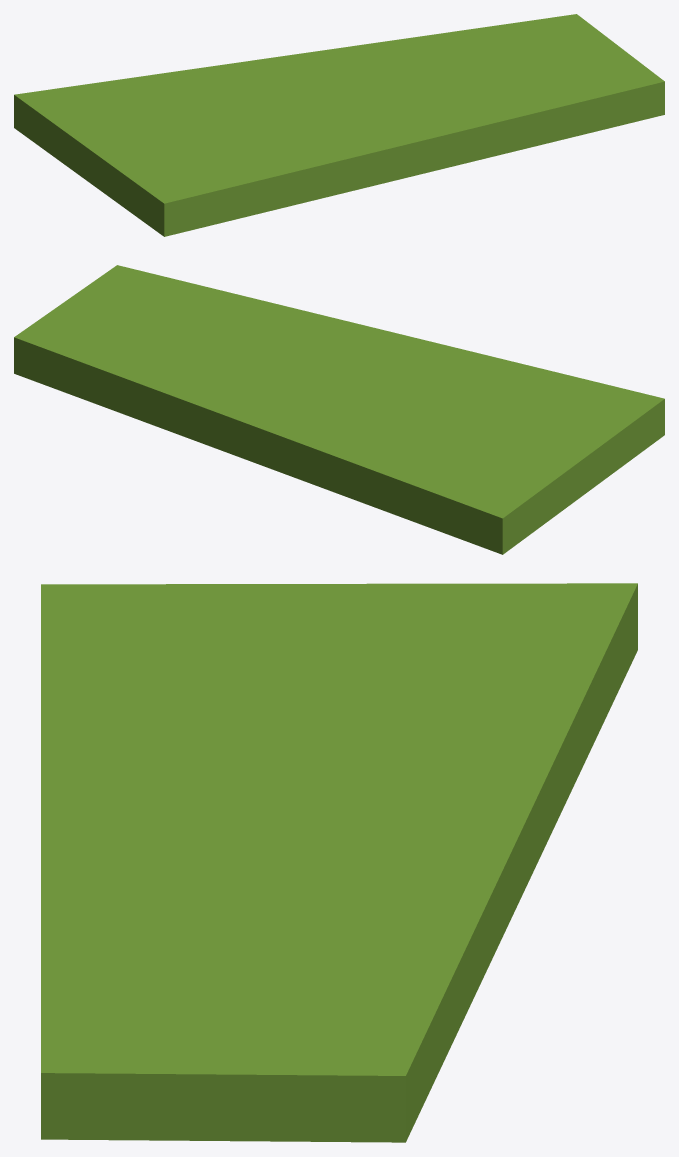
Rendered from Floor2_stair platform.fbx.
The picture shows the model from 3 angles, top to bottom: view 1: azimuth 30°, elevation 25°; view 2: azimuth 150°, elevation 25°; view 3: azimuth 270°, elevation 25°; orthographic projection. The views are drawn at different scales.
Parts seen in each view (by area): view 1: Foliage green_GIPROXY Mesh (1); view 2: Foliage green_GIPROXY Mesh (1); view 3: Foliage green_GIPROXY Mesh (1).
Part boxes in pixels (x1,y1,x2,y2): Foliage green_GIPROXY Mesh (1): [14, 14, 664, 236]; Foliage green_GIPROXY Mesh (1): [14, 265, 664, 554]; Foliage green_GIPROXY Mesh (1): [41, 583, 637, 1142].
Bounding box in the file's own units: 30.75 × 1.94 × 15.75.
